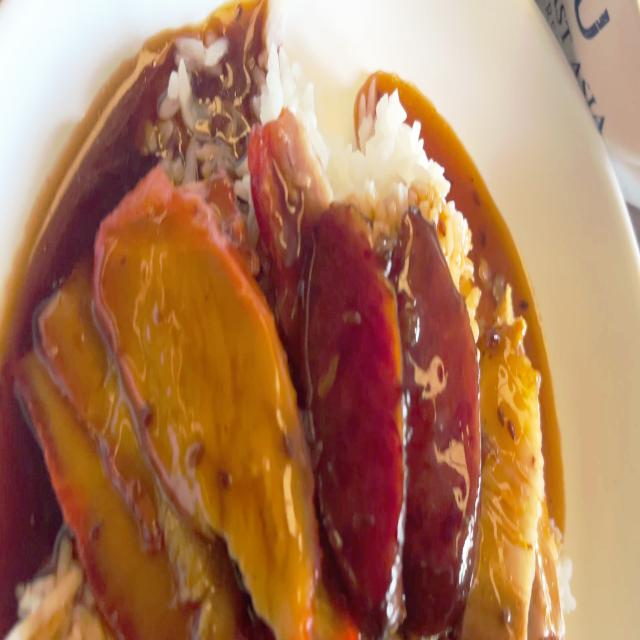chainese_sausage: (311, 196, 482, 640), (392, 179, 480, 640), (309, 207, 403, 621)
crispy_pork: (483, 285, 542, 640)
red_pork: (22, 175, 313, 632), (100, 174, 312, 611), (20, 278, 192, 624), (257, 116, 323, 252)
red_pork_and_crispy_pork: (14, 59, 564, 640)
rice: (161, 57, 445, 185)
